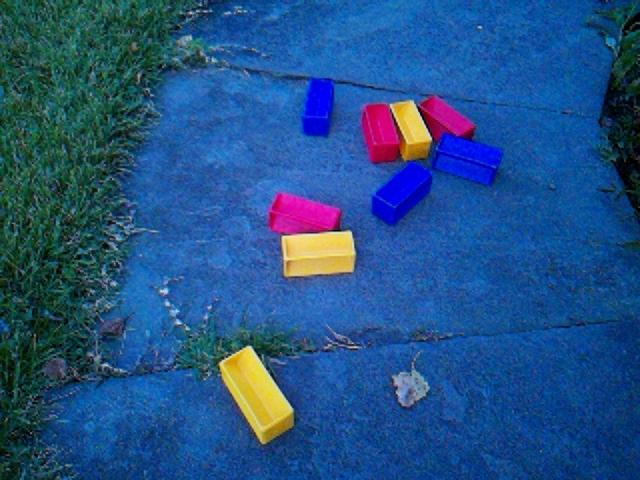blue: (371, 160, 433, 226), (432, 132, 504, 187), (301, 76, 336, 138)
red: (267, 191, 343, 235), (419, 94, 477, 143), (361, 102, 401, 164)
yellow: (218, 344, 296, 446), (281, 229, 357, 279), (390, 99, 433, 162)
